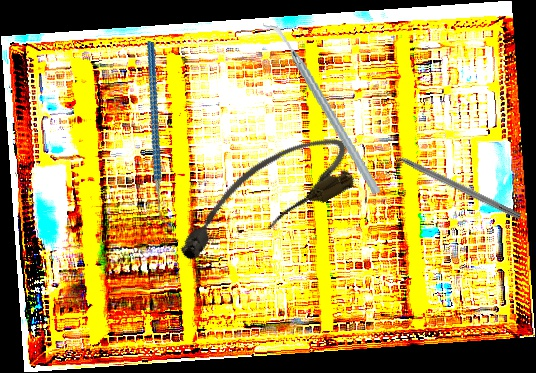Cannula: (159, 122, 365, 274)
Chopper: (262, 10, 382, 206), (98, 40, 221, 230)
Hook Surgical: (380, 144, 523, 221)
